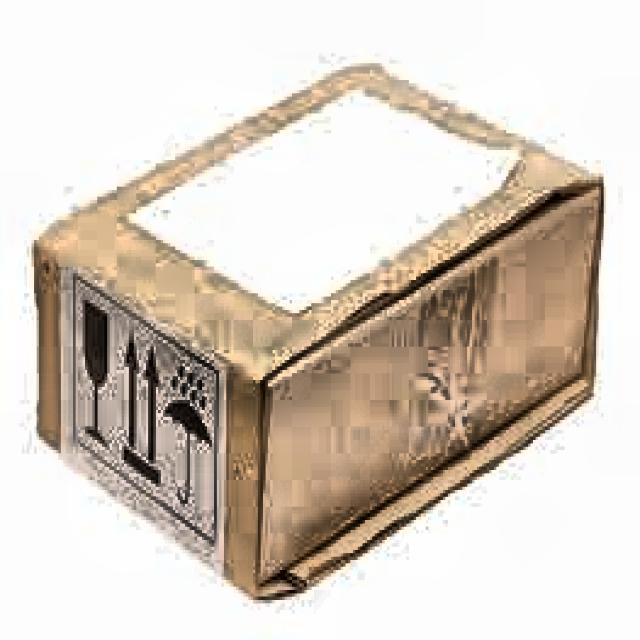Cardbox: (23, 50, 610, 619)
